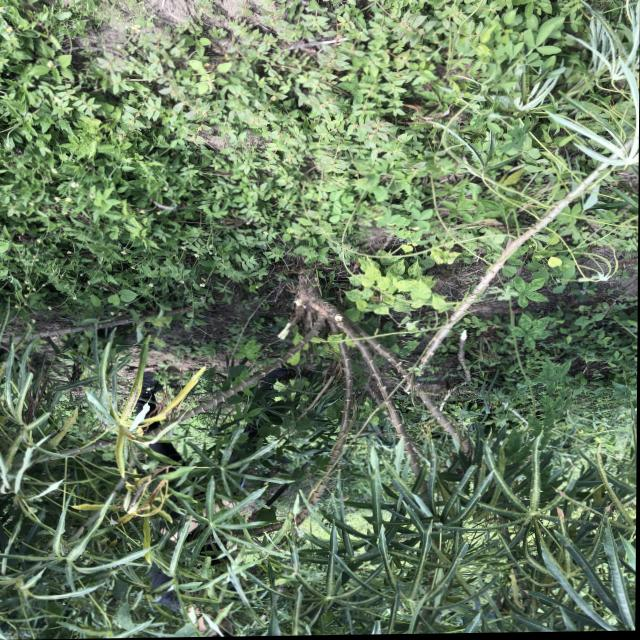Maleza: (307, 6, 628, 226), (4, 45, 274, 281), (229, 105, 463, 319), (504, 272, 552, 340)
